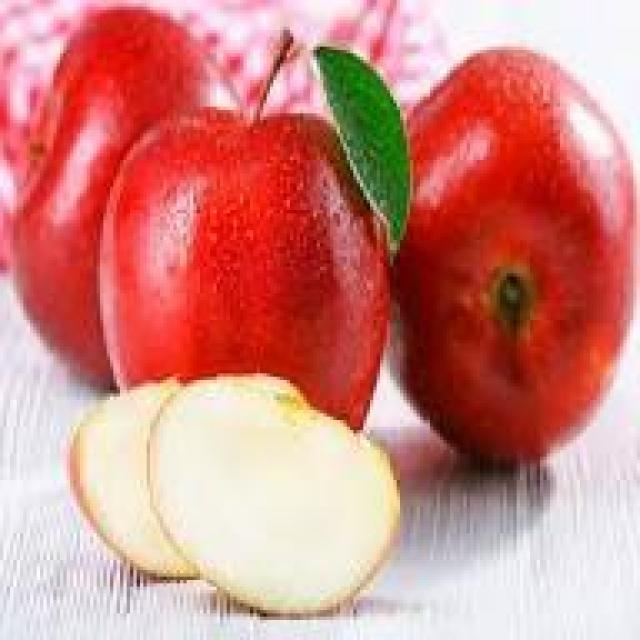apple: (390, 47, 633, 470), (107, 110, 393, 463), (20, 23, 240, 377), (146, 377, 396, 623), (70, 367, 220, 583)
